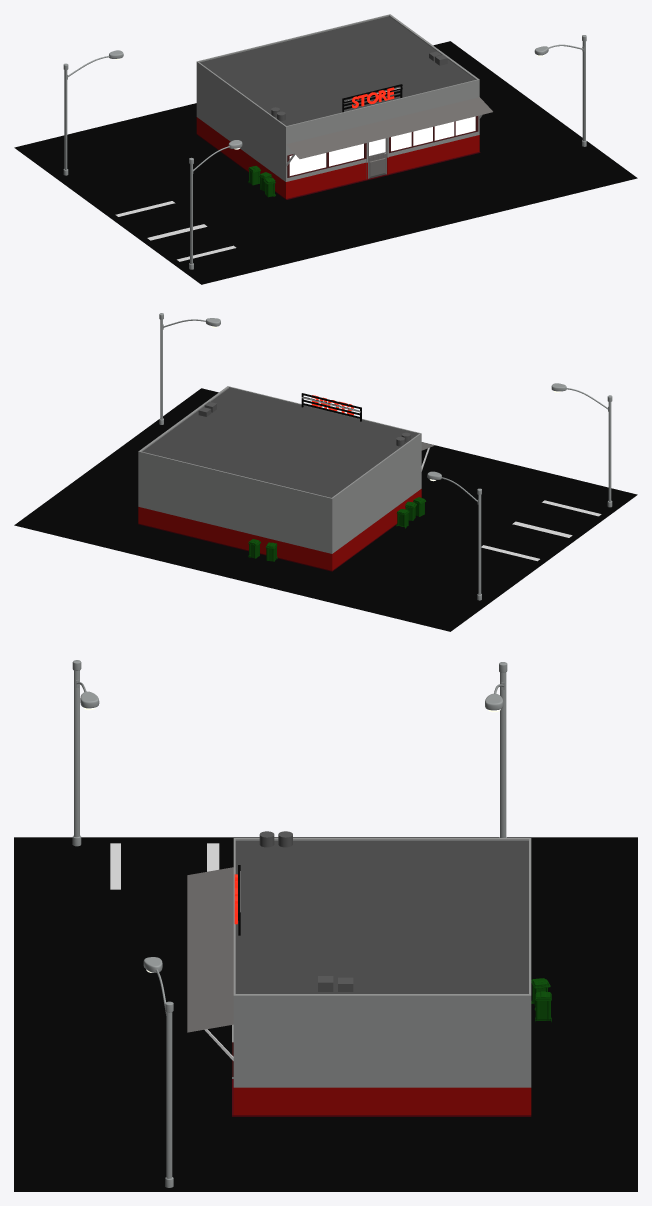
The model's file is storeREADy.fbx.
3 views of the same model, one above another, from view 1: azimuth 30°, elevation 25°; view 2: azimuth 150°, elevation 25°; view 3: azimuth 270°, elevation 25° (orthographic). The views are drawn at different scales.
Parts seen in each view (by area): view 1: Plane, Cube, Cube.008, NurbsPath.071, NurbsPath.001, NurbsPath.002; view 2: Plane, Cube, NurbsPath.002, Cube.008, NurbsPath.071, NurbsPath.001; view 3: Plane, Cube, NurbsPath.001, NurbsPath.071, NurbsPath.002.
Part boxes in pixels (x1,y1,x2,y2): Plane: (14,41,637,284); Cube: (196,14,492,199); Cube.008: (342,84,402,112); NurbsPath.071: (63,50,123,175); NurbsPath.001: (534,35,586,146); NurbsPath.002: (189,140,242,269); Plane: (14,388,637,631); Cube: (138,386,434,571); NurbsPath.002: (551,383,612,507); Cube.008: (301,393,361,421); NurbsPath.071: (427,471,481,600); NurbsPath.001: (159,313,220,424); Plane: (14,837,637,1191); Cube: (187,838,531,1116); NurbsPath.001: (143,957,173,1187); NurbsPath.071: (485,662,507,837); NurbsPath.002: (72,660,99,846).
Size of the model in its own units: 1151 by 288 by 856.
